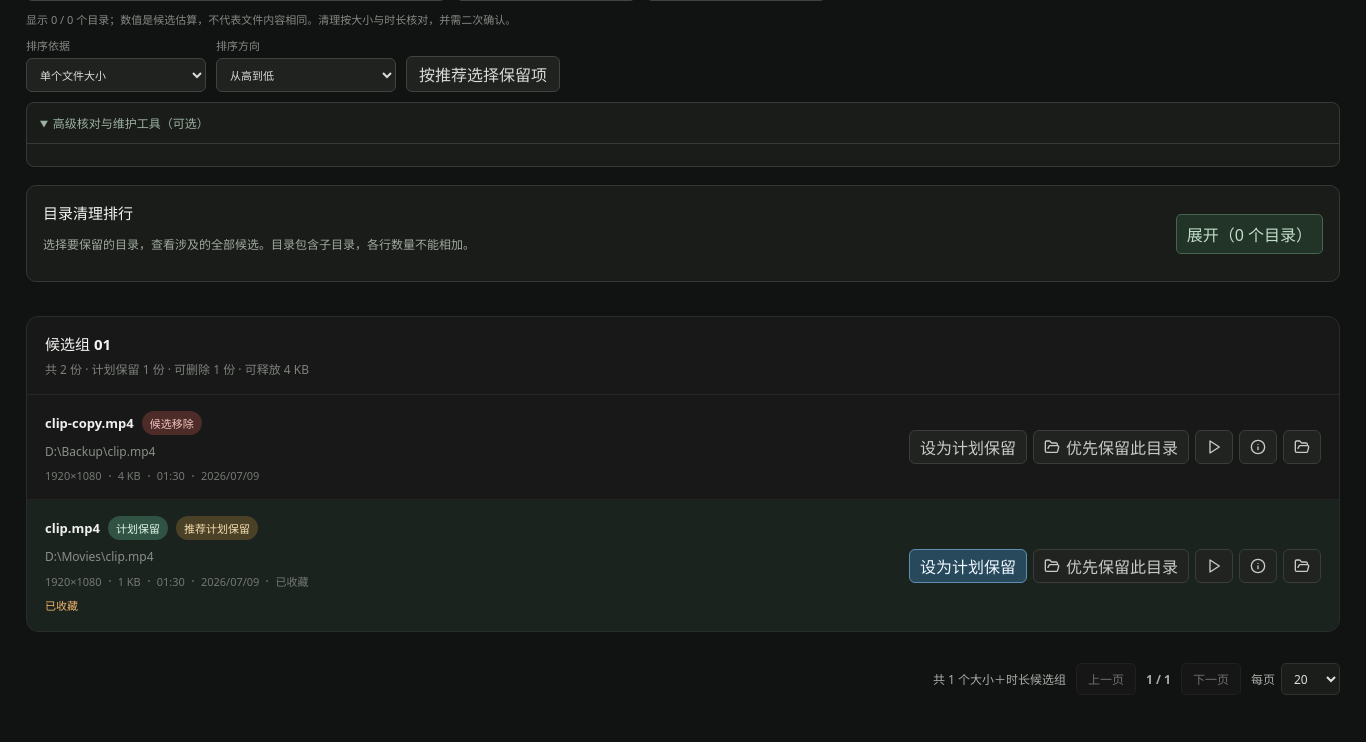
Test: DuplicateGroupsPage staged safety flow › reports preferred-directory persistence failures rather than silently ignoring them
This screenshot has width=1366, height=742.
(page scrolled)
Click the button named "优先保留 D:\\Movies 及其所有子目录".
click(1111, 566)  # box [1033,548,1189,582]
(page scrolled)
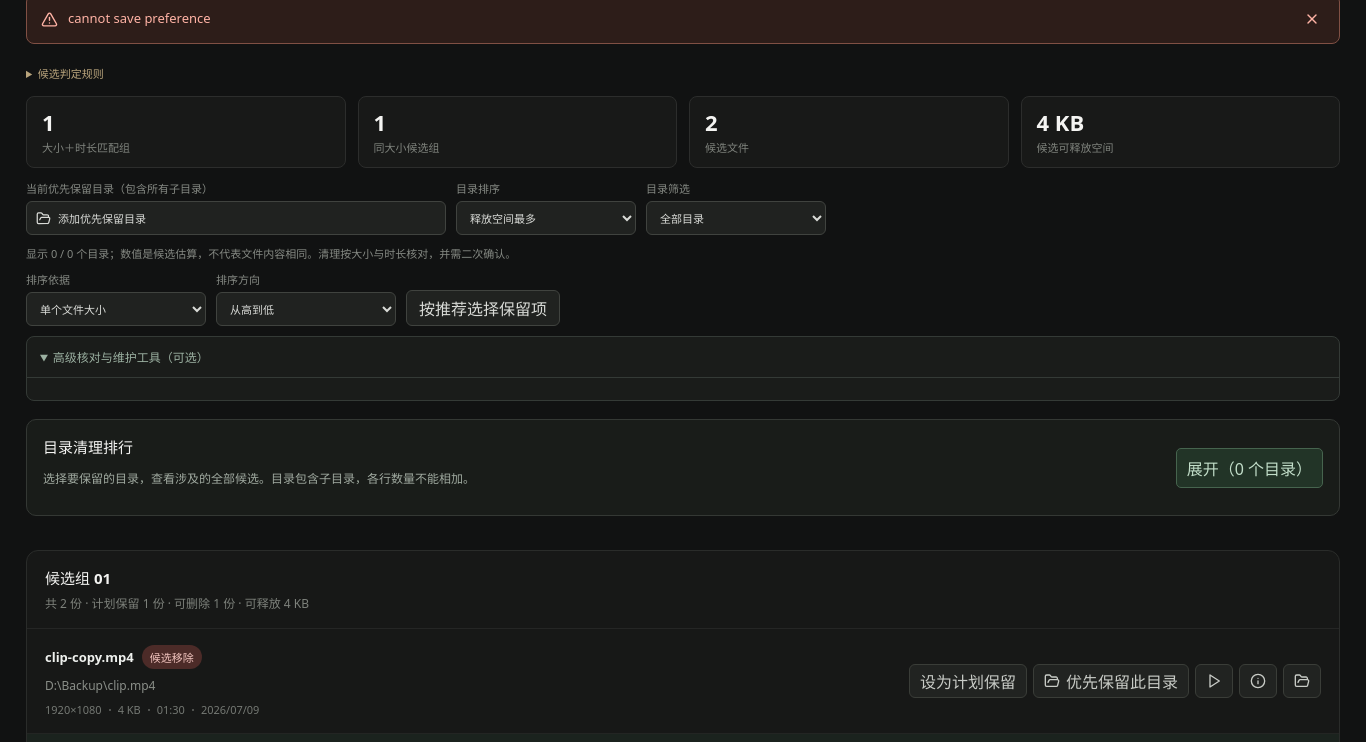
Expected: the message reads "cannot save preference", [68,9,211,27]
